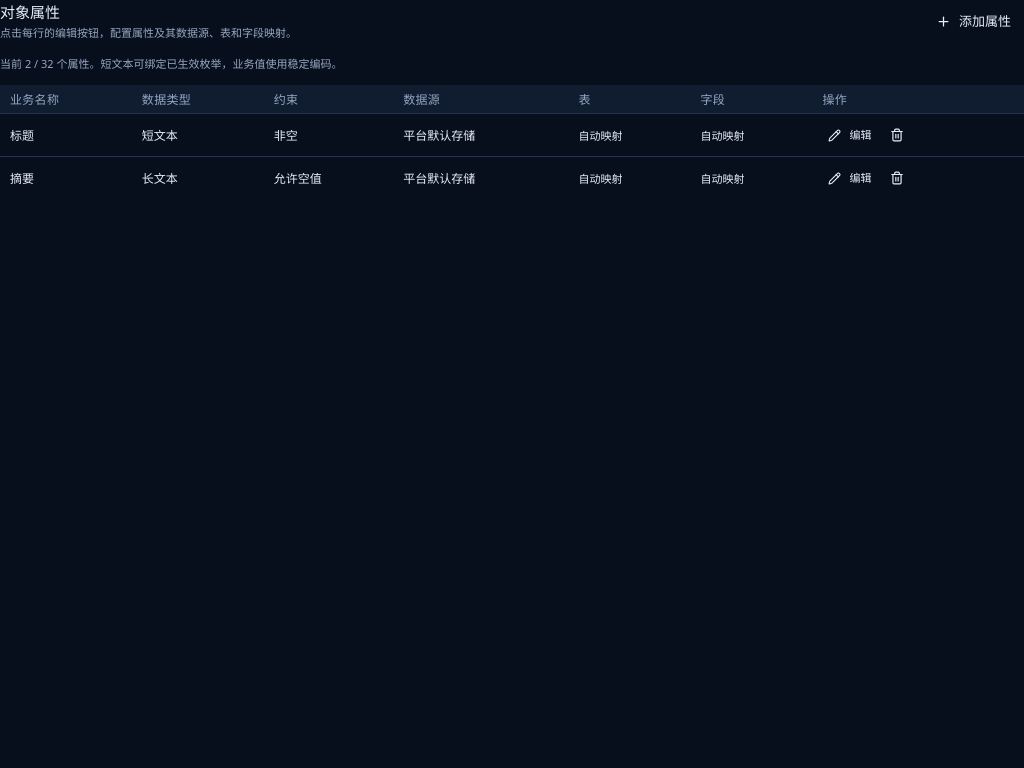
Test case: 对象属性列表与编辑对话框 › 平台存储在属性弹窗显示服务端返回的物理位置，不推算或展示其他属性
Click the button with aria-label "编辑对象属性第1项" at (850, 136), box x1=822 y1=122 x2=878 y2=148
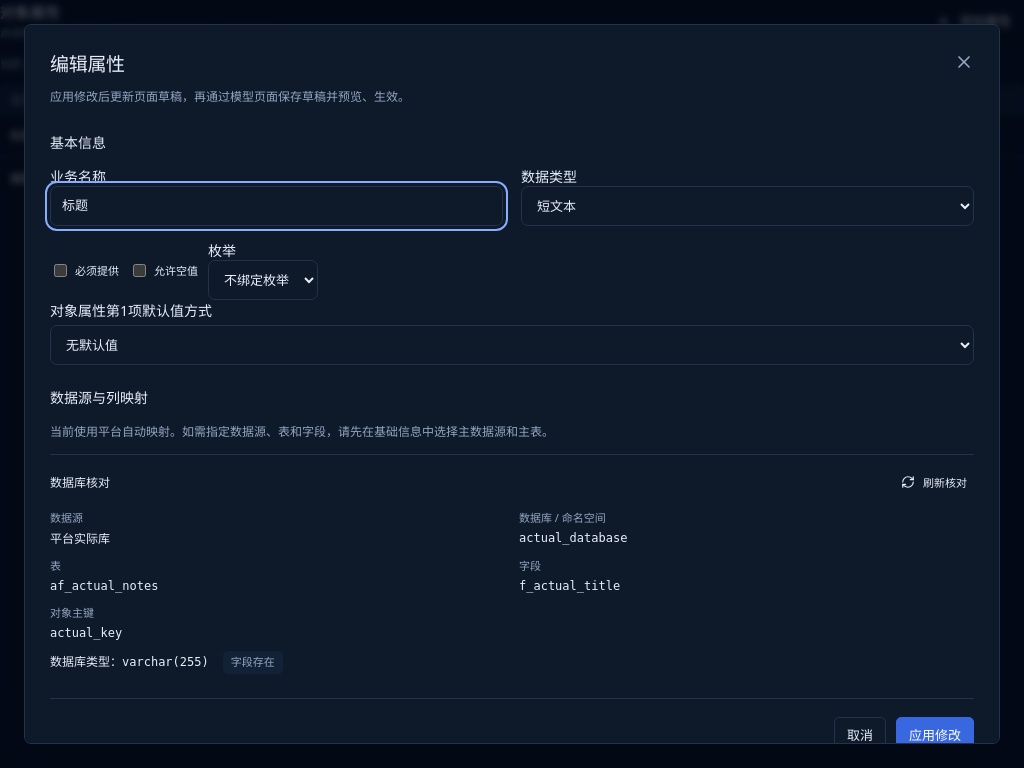
Check: the text "f_actual_title" is shown, box x1=519 y1=579 x2=620 y2=593
Check: the text "平台实际库" is shown, box x1=50 y1=530 x2=110 y2=547
Check: the text "actual_database" is shown, box x1=519 y1=531 x2=627 y2=545
